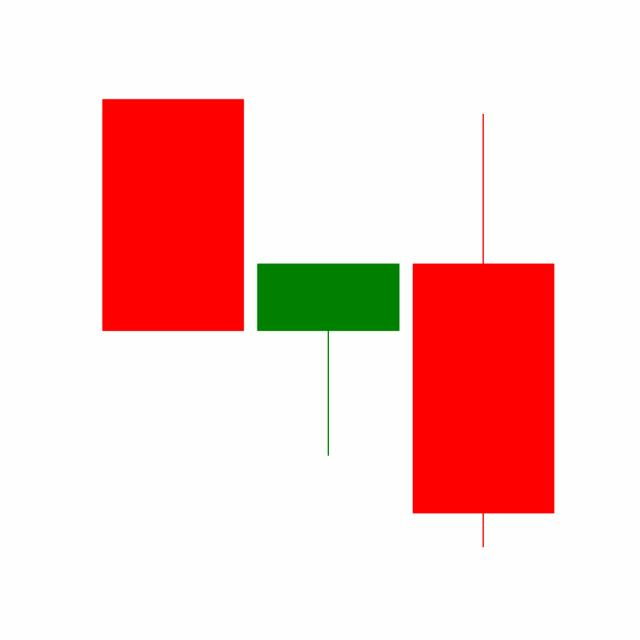Hammer: (249, 261, 406, 458)
